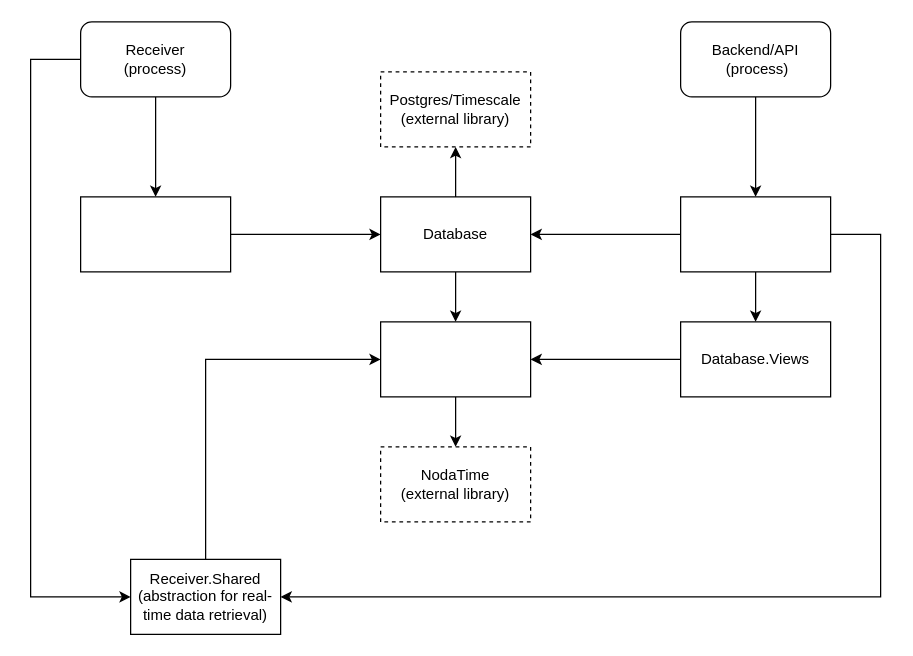
The diagram is 913 pixels wide and 656 high, and some of its shapes have lost their labels. Each missing label, with the centre of its shape:
"Database.Models" belongs at [455,359].
"Database.Read" belongs at [755,234].
"Database.Write" belongs at [155,234].
